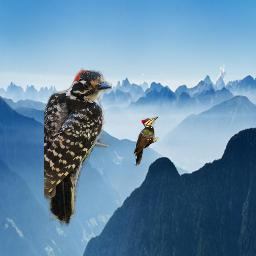Woodpecker: (44, 68, 112, 227), (133, 116, 159, 166)
